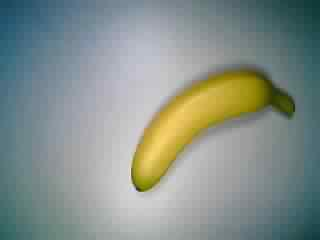banana: (127, 64, 302, 196)
